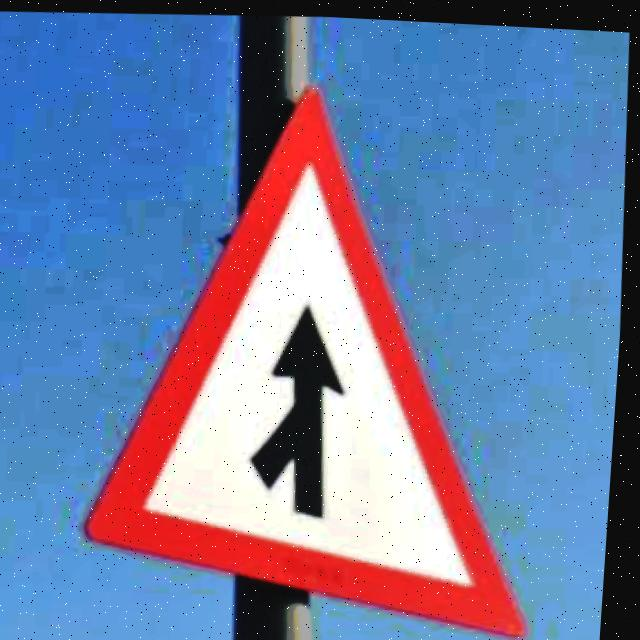leftmerge: (91, 82, 536, 636)
